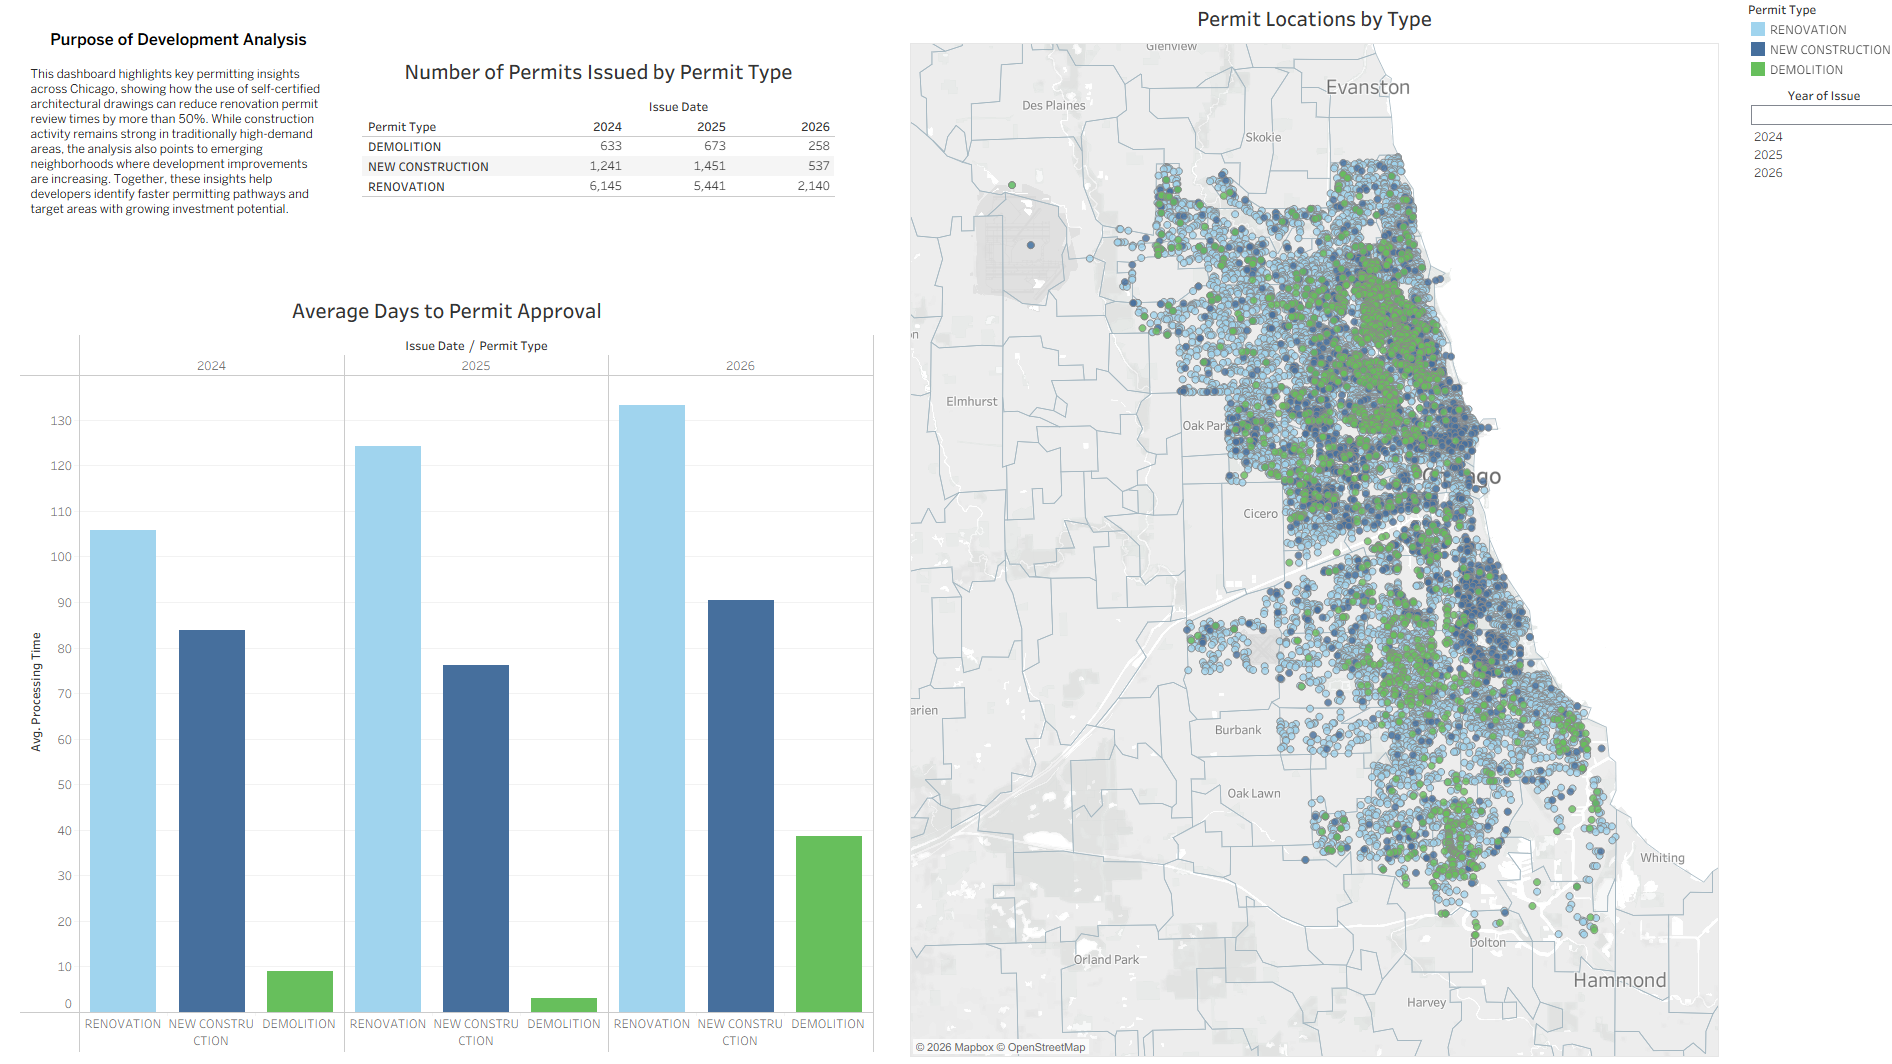

What the dashboard file says about the page in this screenshot:
{"tool":"tableau","page":{"name":"Dashboard 1","canvas":[1000,1000],"units":"permille","ordinal":0},"visuals":[{"type":"legend","title":"Sheet 1","param":"[federated.0po3am802nalmz1gbcwbu0rpkujt].[none:PERMIT_TYPE:nk]","box":[912.5,7.4,83.3,79.6]},{"type":"worksheet","title":"Sheet 2","mark":"Multipolygon","box":[478.1,10.2,421.4,978.7]},{"type":"text","box":[18.8,36.1,156.8,186.1]},{"type":"worksheet","title":"Sheet 4","mark":"Automatic","rows":["PERMIT_TYPE"],"cols":["ISSUE_DATE"],"box":[192.7,59.3,268.2,186.1]},{"type":"filter","title":"Sheet 2","param":"[federated.0po3am802nalmz1gbcwbu0rpkujt].[yr:ISSUE_DATE:ok]","box":[912.5,87,83.3,98.2]},{"type":"worksheet","title":"Sheet 1","mark":"Bar","rows":["PROCESSING_TIME"],"cols":["ISSUE_DATE","PERMIT_TYPE"],"box":[15.6,227.8,444.8,704.6]},{"type":"text","box":[8.3,945.4,135.9,27.8]}]}

Visuals, with their boxes on the dashboard's canvas, which has no fixed pixel size, in thousandths of its width and height (x1, y1, x2, y2). These are canvas units, not pixel positions in the 1892x1064 screenshot, which may show the page scaled, cropped or inside an application window:
"Sheet 1" legend: [912, 7, 996, 87]
"Sheet 2" worksheet (Multipolygon marks): [478, 10, 900, 989]
text: [19, 36, 176, 222]
"Sheet 4" worksheet: [193, 59, 461, 245]
"Sheet 2" filter: [912, 87, 996, 185]
"Sheet 1" worksheet (Bar marks): [16, 228, 460, 932]
text: [8, 945, 144, 973]
